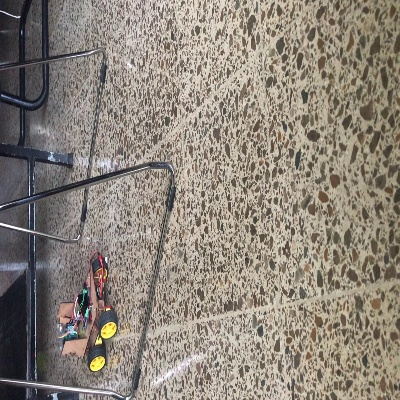Robot: (59, 260, 116, 371)
